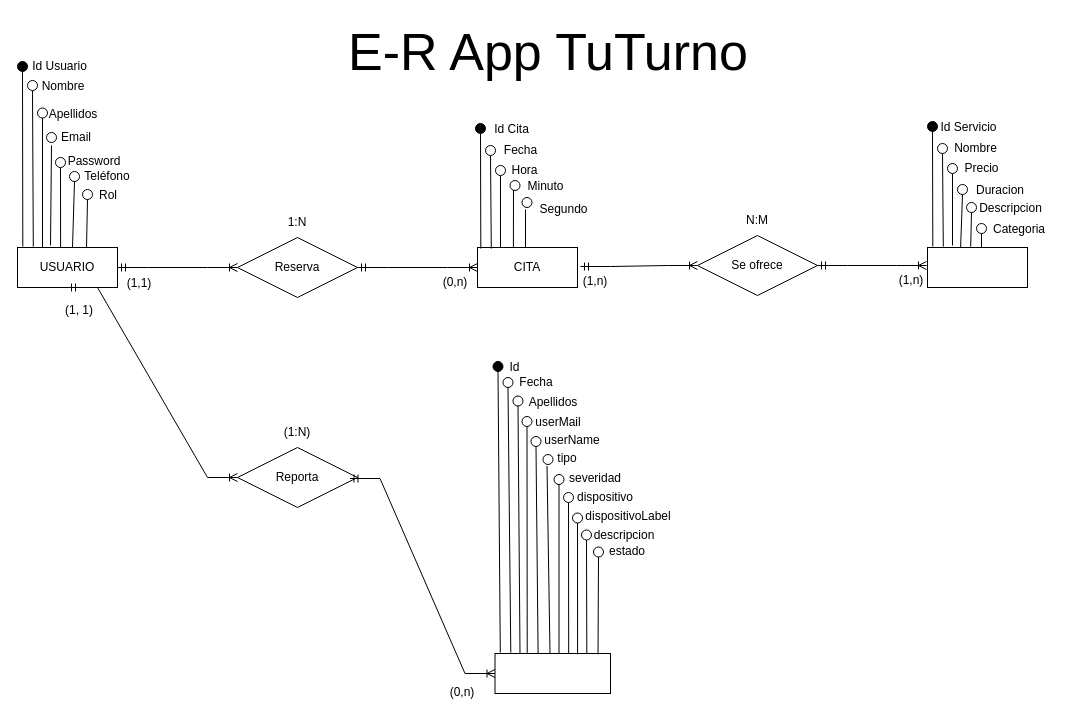
This 1082x724 diagram has some shape labels left out. The centre of each missing label's shape, as x and y in pixels:
ERROR: the point at 552,673
SERVICIO: the point at 977,267
